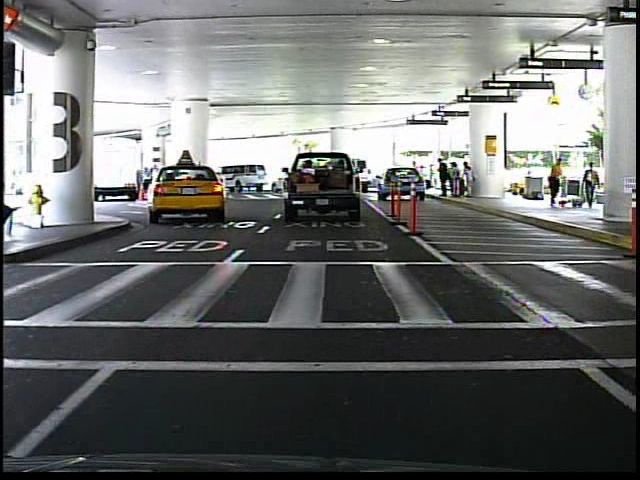person: (544, 154, 568, 211), (582, 159, 601, 212), (409, 159, 423, 192)
